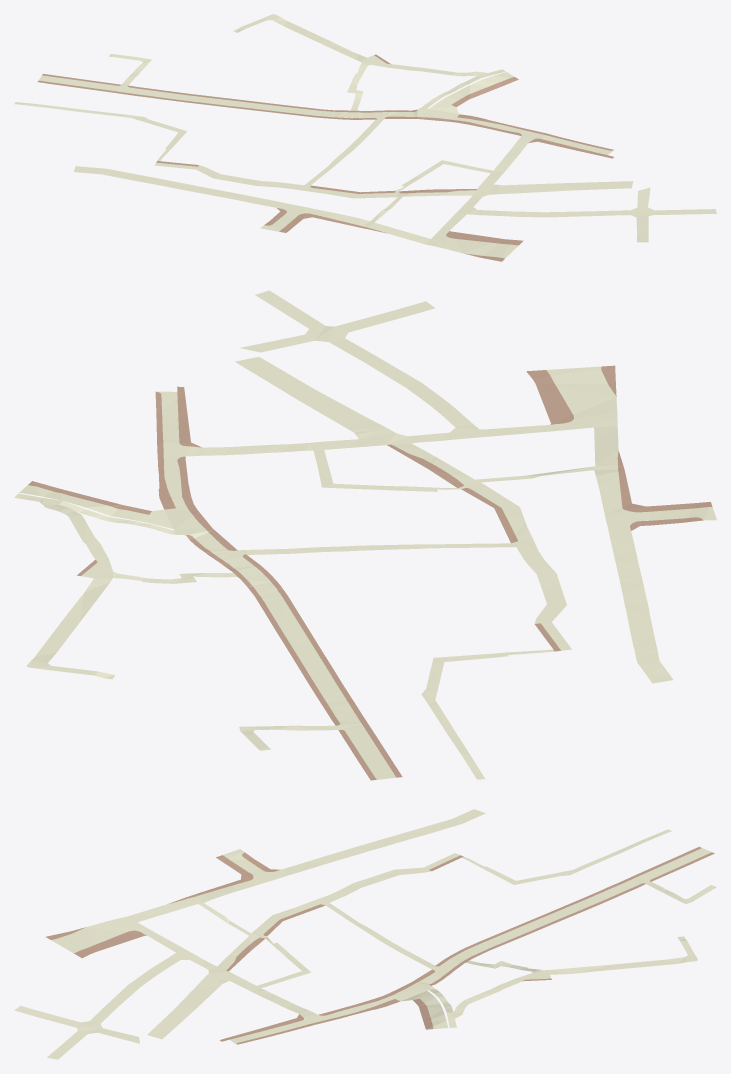
The model's file is data71.glb.
3 renders of one model, top to bottom at view 1: azimuth 30°, elevation 25°; view 2: azimuth 150°, elevation 25°; view 3: azimuth 270°, elevation 25°, orthographic. The views are drawn at different scales.
Size of the model in its own units: 279 by 10.43 by 344.
